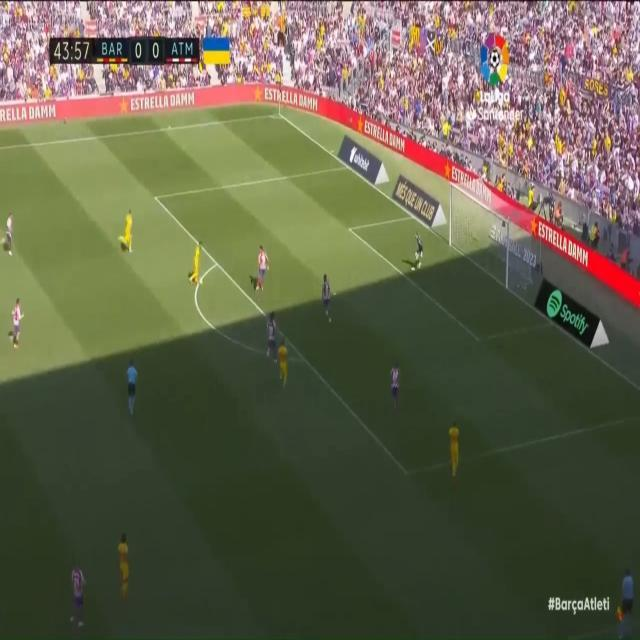ball: (199, 278, 203, 288)
goalkeeper: (411, 223, 431, 283)
player: (438, 416, 463, 480), (68, 558, 89, 632), (6, 296, 28, 352), (250, 238, 272, 294), (117, 531, 133, 598), (119, 204, 136, 262), (275, 340, 290, 398), (185, 235, 201, 286), (386, 363, 403, 408), (4, 203, 17, 261), (263, 314, 277, 358), (321, 274, 331, 328)
referee: (614, 555, 640, 632), (124, 350, 144, 420)
